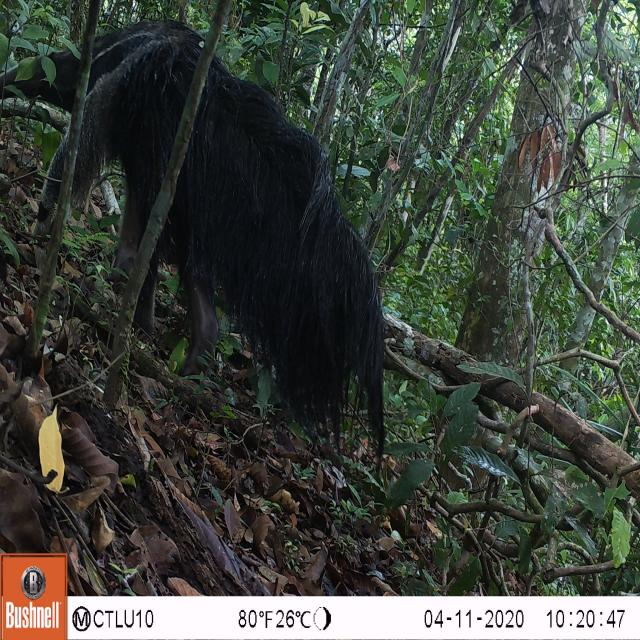Giant Anteater: (0, 16, 394, 460)
